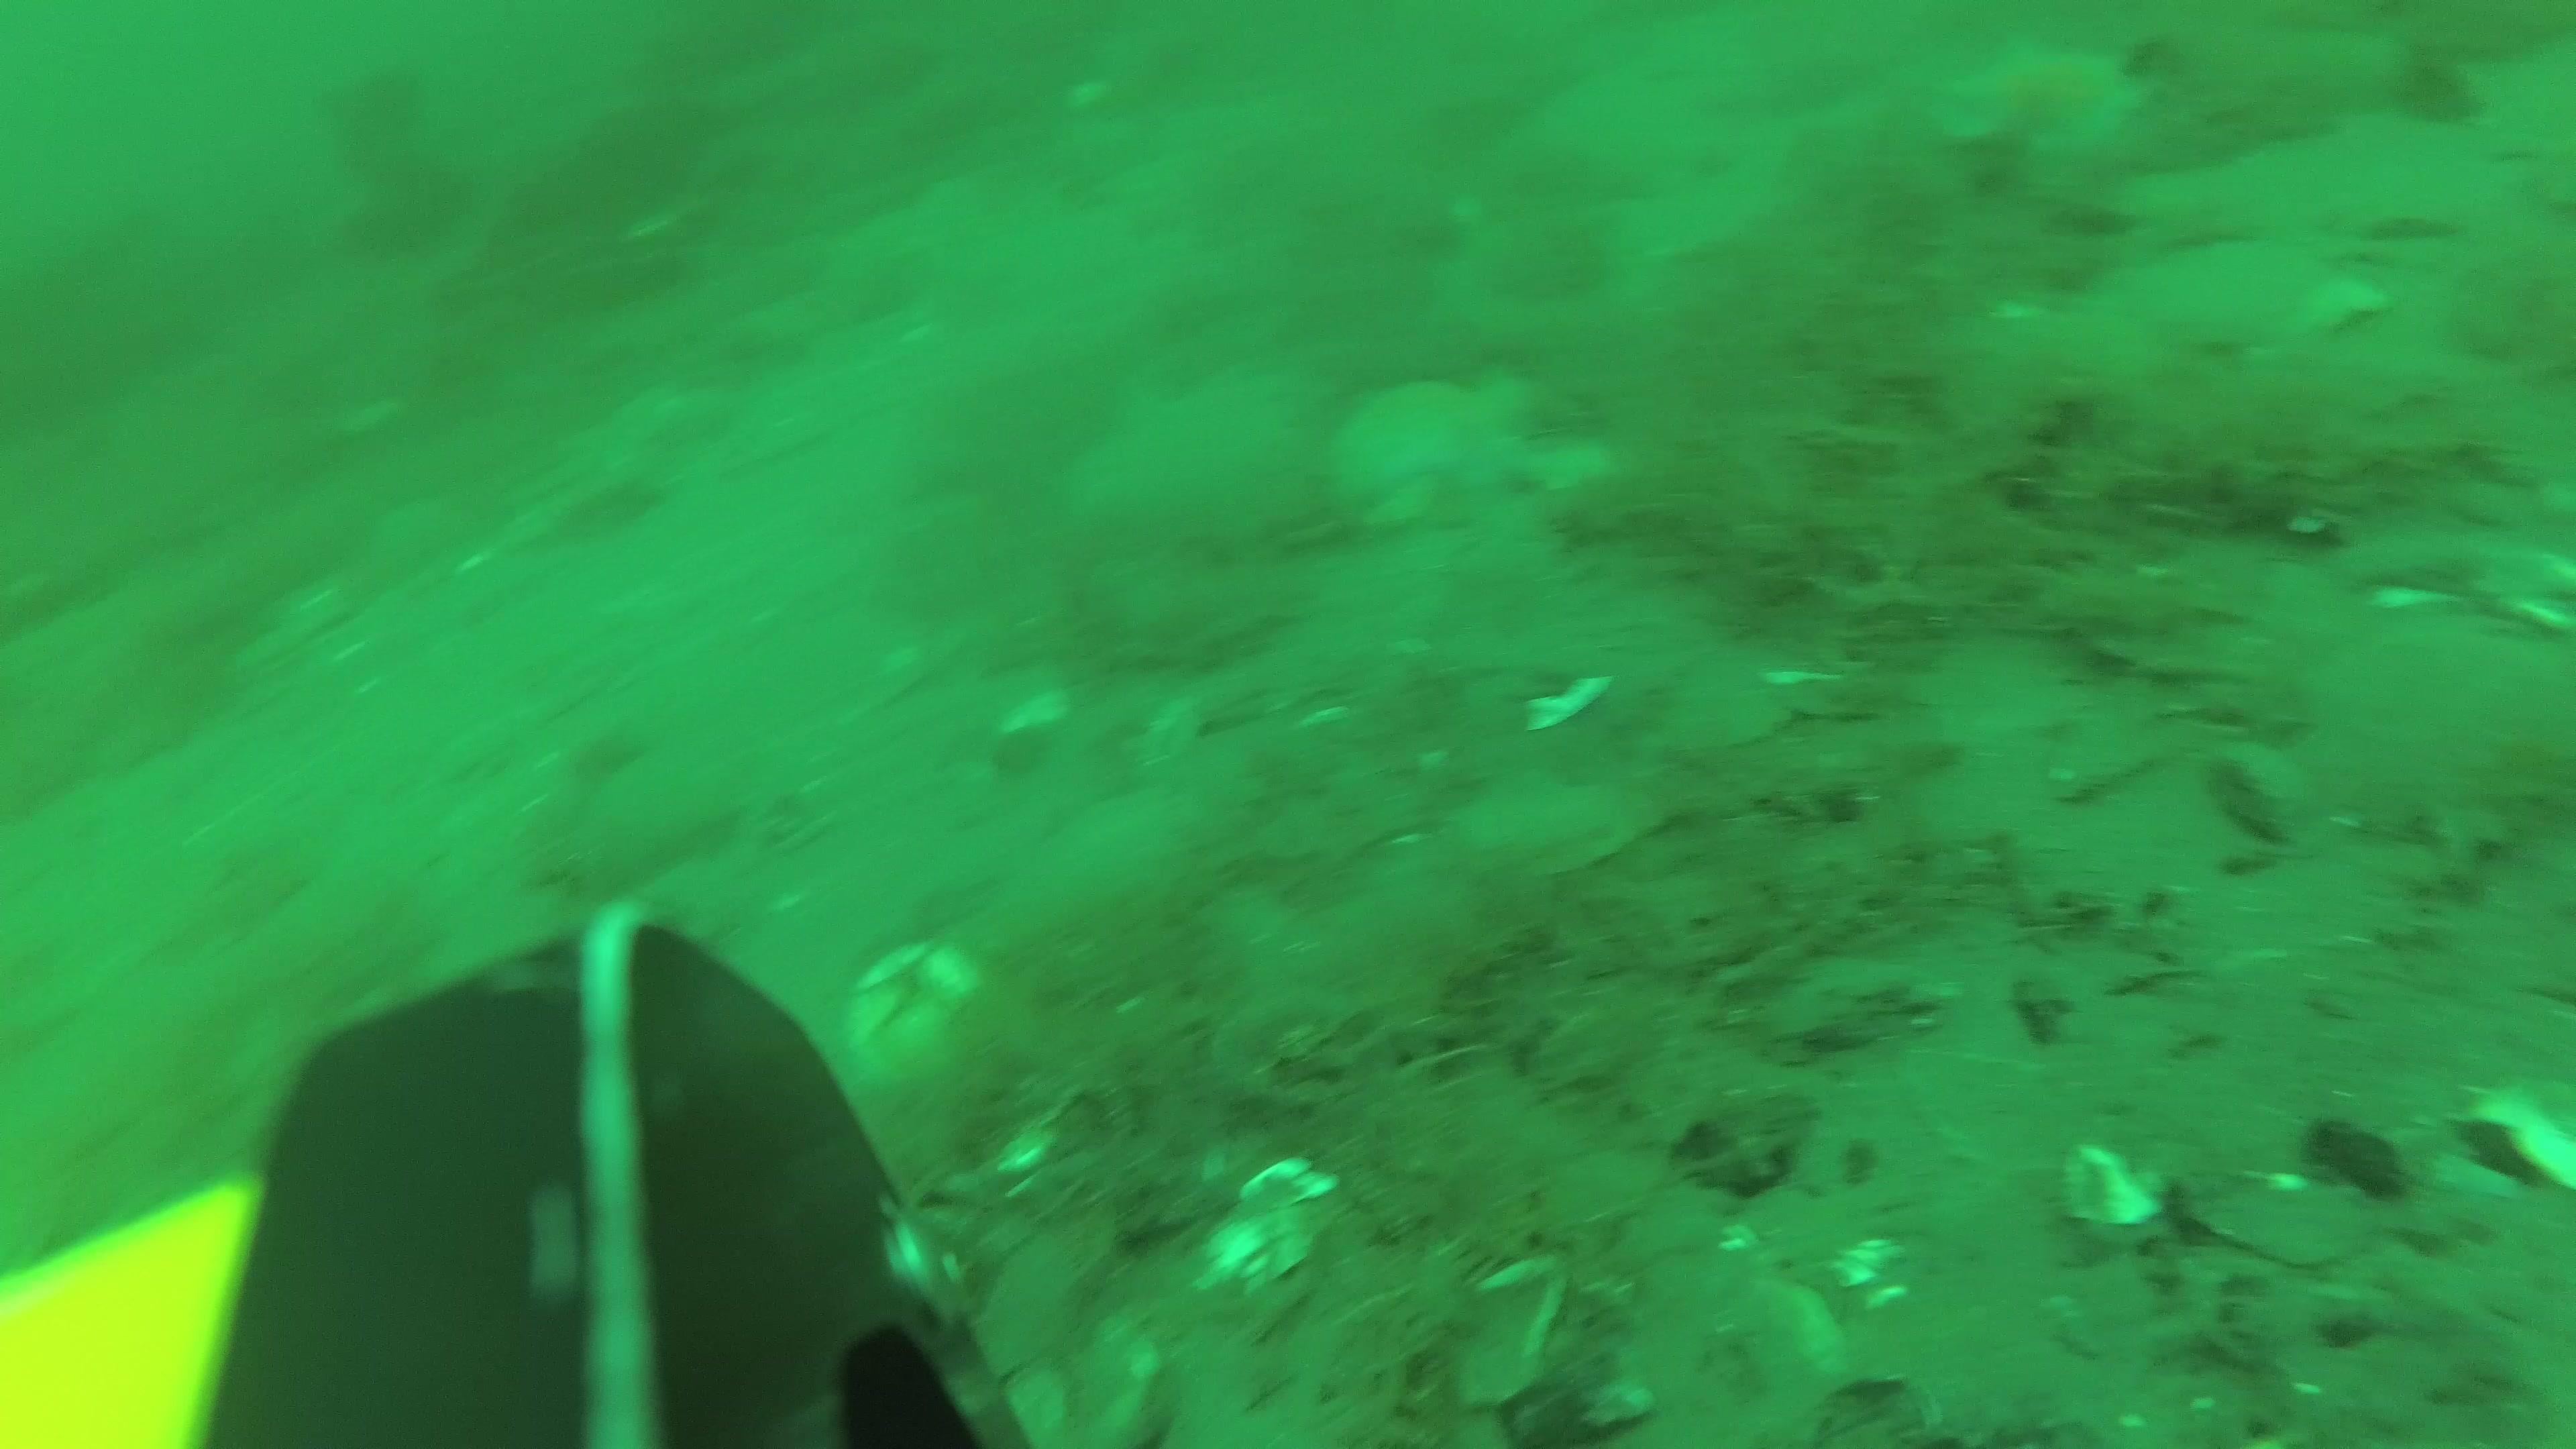scallop: (2277, 632, 2576, 816), (2127, 249, 2378, 343), (2197, 1166, 2381, 1267), (847, 952, 985, 1085)
starfish: (1313, 375, 1578, 527), (1930, 41, 2164, 149)
